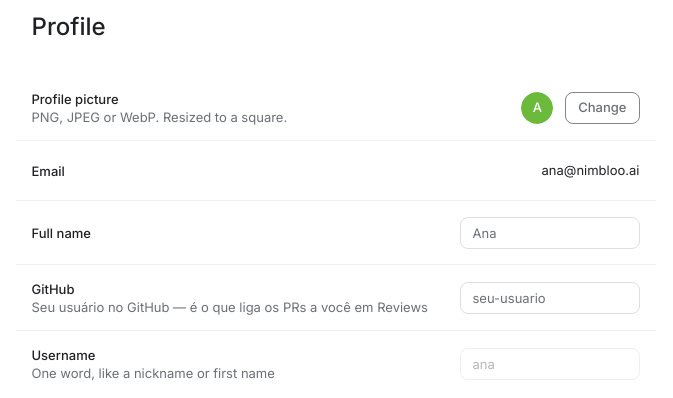
Test: Profile (Ad#33) › nome apagado não é salvo e o campo volta ao nome atual
This screenshot has width=673, height=398.
Step 1. Clear the field showing "Ana" in the row of "Full name" → point(550, 232), box [460, 216, 640, 248]
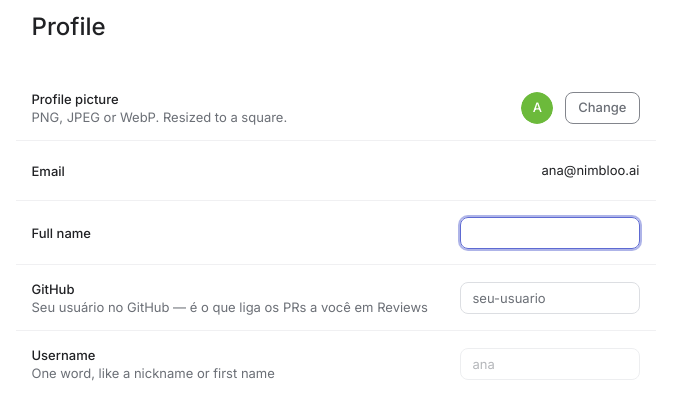
Step 2. Press Tab
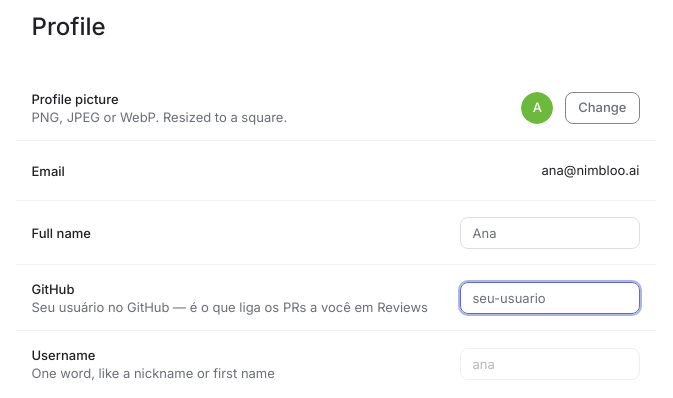
Check: the field showing "Ana" in the row of "Full name" holds "Ana", box [460, 216, 640, 248]
